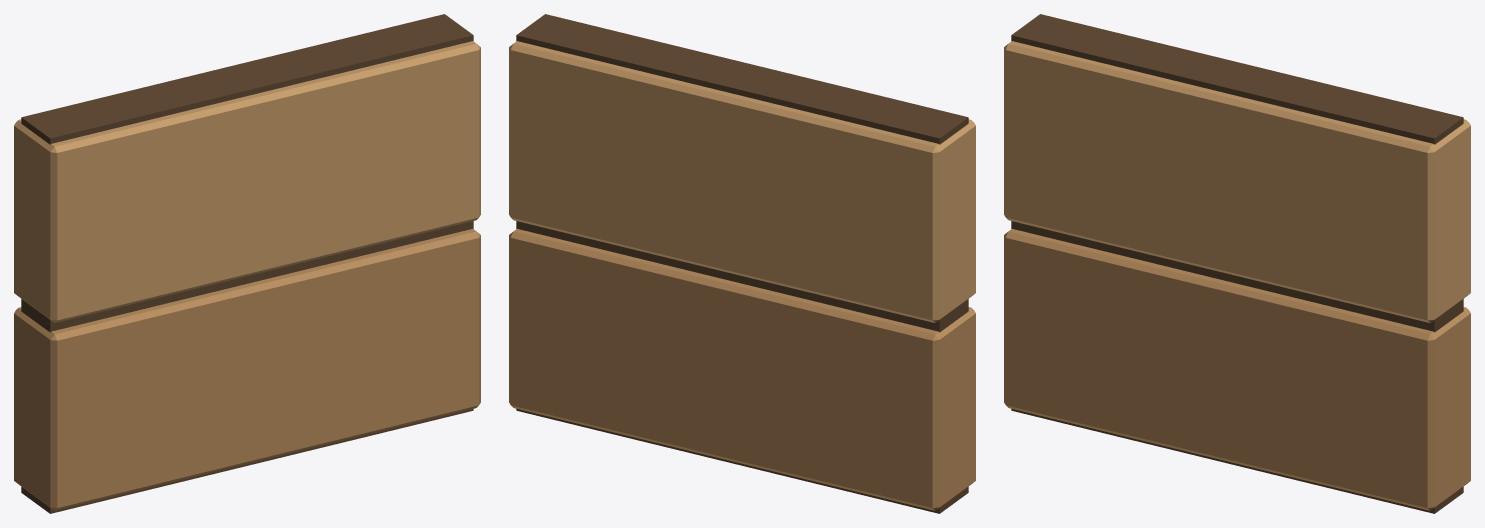
Rendered from mur_bois.glb.
The picture shows the model from 3 angles, left to right: view 1: azimuth 30°, elevation 25°; view 2: azimuth 150°, elevation 25°; view 3: azimuth 330°, elevation 25°; orthographic projection.
Visible parts, largest first — view 1: mur_bois_planche_claire.002, mur_bois_planche.002, mur_bois_bois_sombre.002; view 2: mur_bois_planche_claire.002, mur_bois_planche.002, mur_bois_bois_sombre.002; view 3: mur_bois_planche_claire.002, mur_bois_planche.002, mur_bois_bois_sombre.002.
Part boxes in pixels (bbox=[...]): mur_bois_planche_claire.002: bbox=[14, 41, 480, 322]; mur_bois_planche.002: bbox=[14, 229, 480, 510]; mur_bois_bois_sombre.002: bbox=[21, 14, 473, 513]; mur_bois_planche_claire.002: bbox=[509, 41, 975, 322]; mur_bois_planche.002: bbox=[509, 229, 975, 510]; mur_bois_bois_sombre.002: bbox=[516, 14, 968, 513]; mur_bois_planche_claire.002: bbox=[1004, 41, 1470, 322]; mur_bois_planche.002: bbox=[1004, 229, 1470, 510]; mur_bois_bois_sombre.002: bbox=[1011, 14, 1463, 513].
Size of the model in its own units: 0.6 by 0.5 by 0.1.
